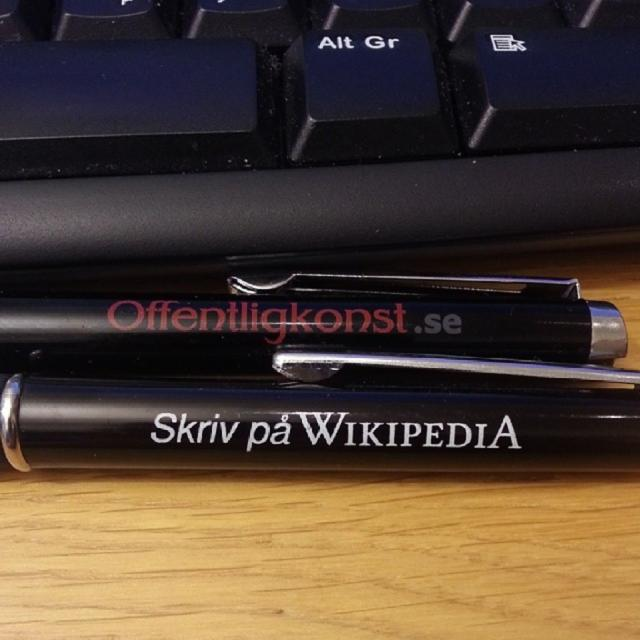pen: (0, 364, 639, 478), (0, 268, 627, 380)
